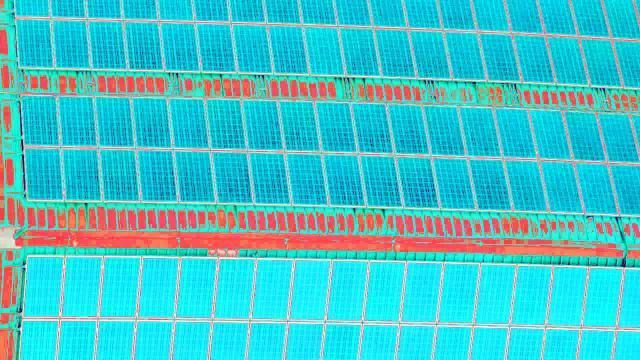dirty: (21, 254, 63, 320), (59, 254, 101, 320), (98, 255, 140, 321), (135, 256, 177, 322), (175, 256, 217, 322), (213, 259, 255, 325), (252, 257, 294, 323), (290, 258, 332, 324), (326, 257, 368, 323), (364, 258, 406, 324), (401, 260, 443, 326), (438, 260, 480, 326), (477, 264, 519, 330), (514, 263, 556, 329), (544, 266, 586, 332), (580, 265, 622, 331), (15, 18, 53, 70), (54, 17, 92, 69), (89, 17, 127, 69), (124, 20, 162, 72), (158, 20, 196, 72), (196, 21, 234, 73), (231, 24, 269, 76), (265, 21, 303, 73), (305, 25, 343, 77), (345, 24, 383, 76), (381, 26, 419, 78), (414, 29, 452, 81), (447, 30, 485, 82), (483, 31, 521, 83), (519, 32, 557, 84), (553, 34, 591, 86), (583, 33, 621, 85), (600, 112, 638, 164), (565, 111, 603, 163), (528, 107, 566, 159), (495, 107, 533, 159), (462, 105, 500, 157), (427, 102, 465, 154), (392, 103, 430, 155), (354, 98, 392, 150), (314, 102, 352, 154), (277, 97, 315, 149), (242, 97, 280, 149), (205, 96, 243, 148), (170, 96, 208, 148), (54, 95, 92, 147), (123, 96, 161, 148), (91, 95, 129, 147), (20, 92, 58, 144), (25, 147, 63, 199), (61, 147, 99, 199), (98, 149, 136, 201), (138, 149, 176, 201), (176, 148, 214, 200), (212, 151, 250, 203), (249, 151, 287, 203), (288, 153, 326, 205), (320, 152, 358, 204), (362, 155, 400, 207), (398, 157, 436, 209), (431, 157, 469, 209), (470, 159, 508, 211), (503, 159, 541, 211), (544, 159, 582, 211), (583, 162, 621, 214)
